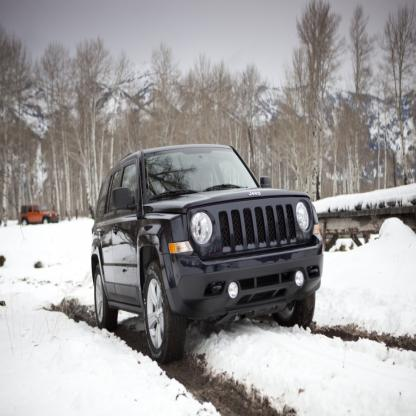Vehicle: (92, 142, 325, 365)
